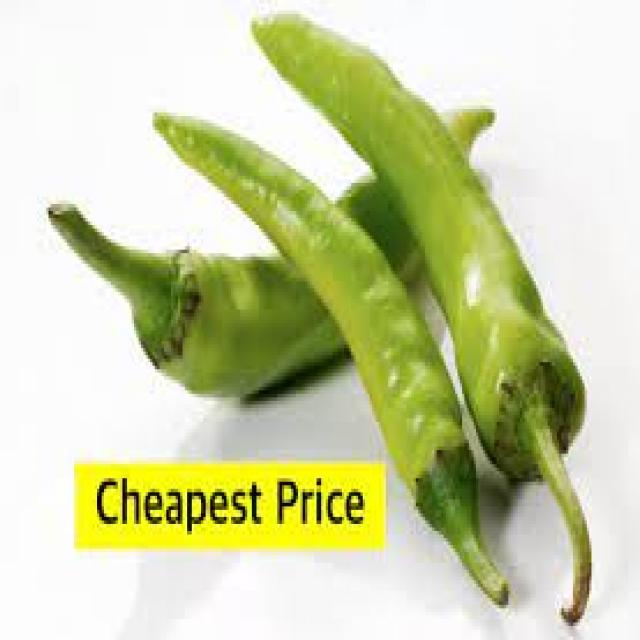green chilli: (256, 18, 594, 624), (155, 118, 508, 607), (49, 207, 344, 396)
